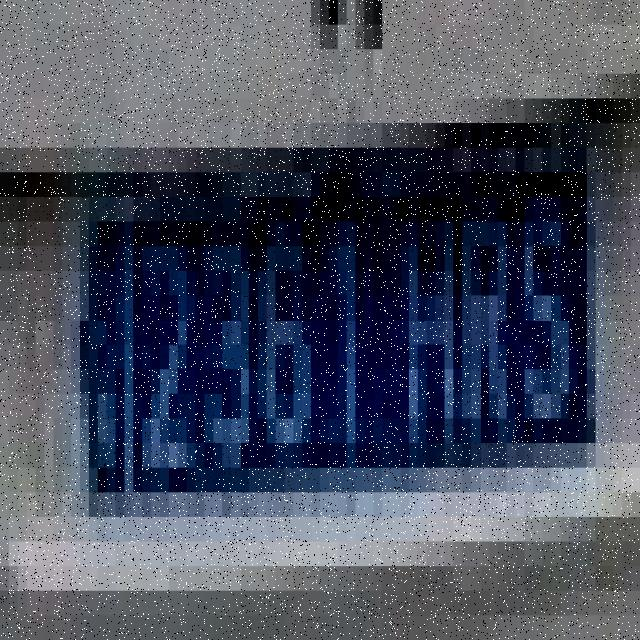licenseplate: (63, 128, 612, 514)
